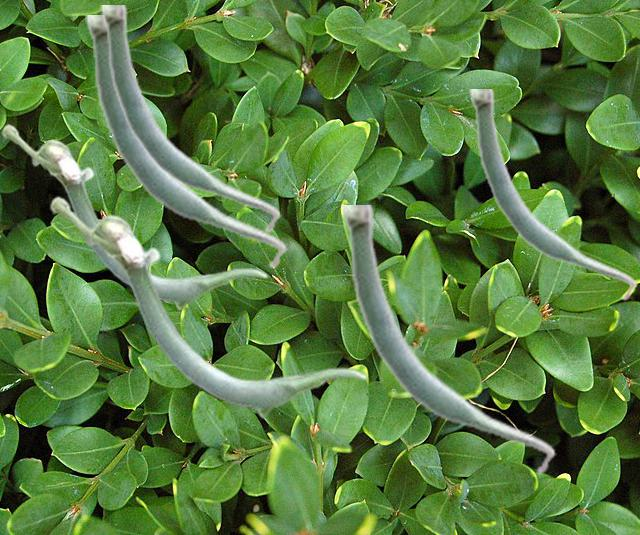french_bean: (49, 195, 367, 418), (341, 205, 555, 475), (85, 15, 286, 269), (1, 123, 267, 310), (100, 5, 280, 233), (469, 89, 636, 301)
